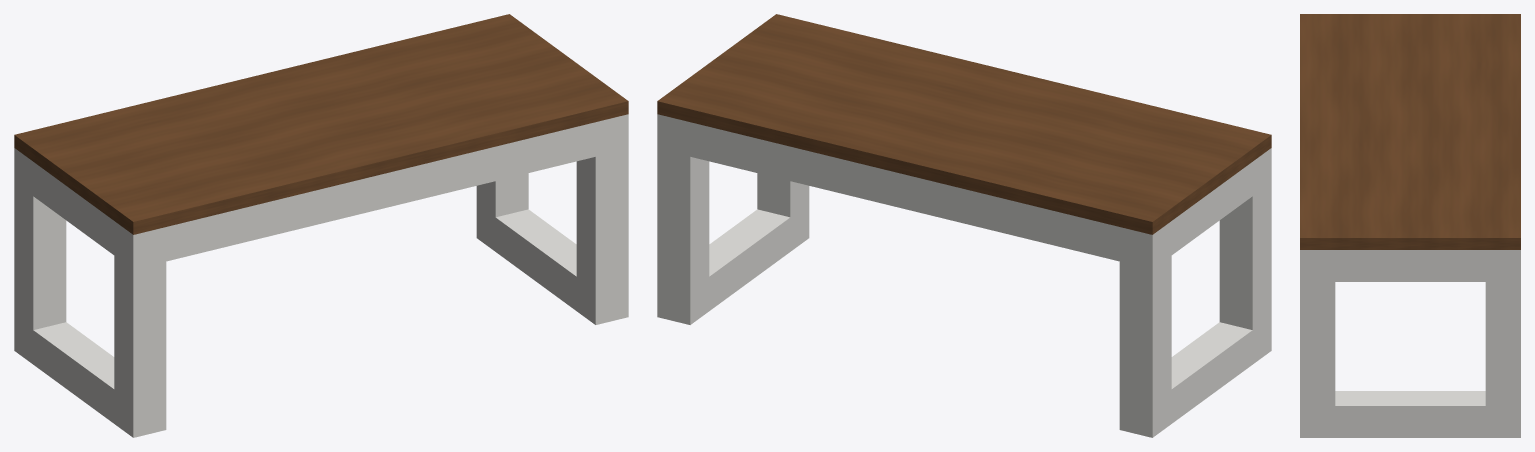
The model's file is mesa-living-nord-nogal-blanco-8cm.glb.
3 renders of one model, left to right at view 1: azimuth 30°, elevation 25°; view 2: azimuth 150°, elevation 25°; view 3: azimuth 270°, elevation 25°, orthographic. The views are drawn at different scales.
Visible parts, largest first — view 1: Tapa de madera maciza 120 x 50 cm, Pata recta de hierro 8 x 8 cm (×4), Larguero longitudinal superior recto, Travesaño inferior recto (×2), Travesaño superior recto; view 2: Tapa de madera maciza 120 x 50 cm, Pata recta de hierro 8 x 8 cm (×4), Larguero longitudinal superior recto, Travesaño inferior recto (×2), Travesaño superior recto; view 3: Tapa de madera maciza 120 x 50 cm, Pata recta de hierro 8 x 8 cm (×2), Travesaño inferior recto, Travesaño superior recto.
Boxes of the visible parts, bbox=[...] form: Tapa de madera maciza 120 x 50 cm: bbox=[14, 14, 628, 234]; Pata recta de hierro 8 x 8 cm (×4): bbox=[14, 114, 628, 437]; Larguero longitudinal superior recto: bbox=[166, 122, 595, 261]; Travesaño inferior recto (×2): bbox=[24, 209, 585, 429]; Travesaño superior recto: bbox=[24, 156, 123, 261]; Tapa de madera maciza 120 x 50 cm: bbox=[657, 14, 1271, 234]; Pata recta de hierro 8 x 8 cm (×4): bbox=[657, 114, 1271, 437]; Larguero longitudinal superior recto: bbox=[690, 122, 1119, 261]; Travesaño inferior recto (×2): bbox=[700, 209, 1261, 430]; Travesaño superior recto: bbox=[1162, 155, 1261, 262]; Tapa de madera maciza 120 x 50 cm: bbox=[1300, 14, 1520, 249]; Pata recta de hierro 8 x 8 cm (×2): bbox=[1300, 250, 1520, 437]; Travesaño inferior recto: bbox=[1318, 391, 1502, 437]; Travesaño superior recto: bbox=[1317, 250, 1503, 281].
Bounding box in the file's own units: 1.2 × 0.5 × 0.5.
2 materials, 1 textured.
